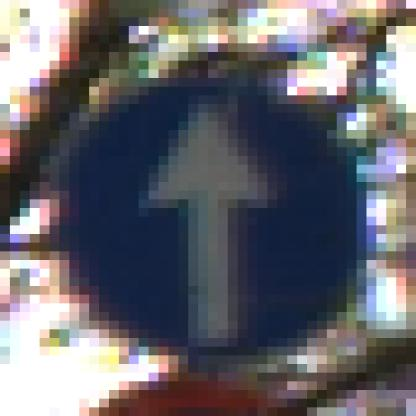AheadOnly: (51, 44, 368, 374)
